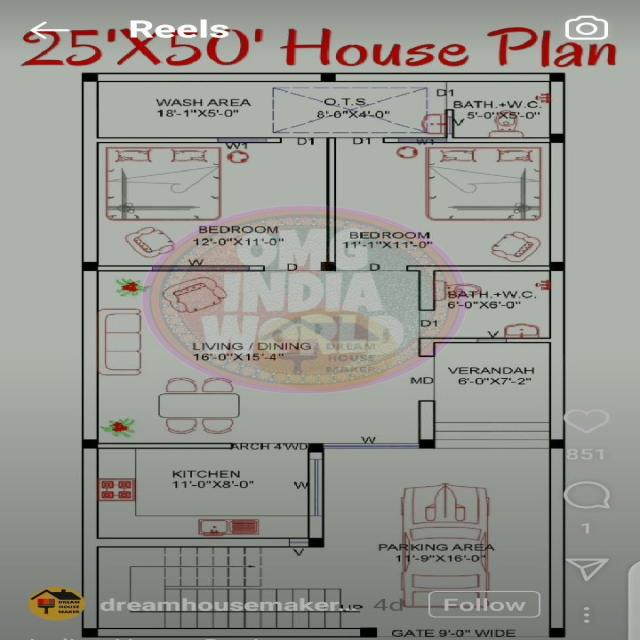Blueprint: (73, 67, 579, 640)
column: (542, 258, 574, 276), (541, 130, 574, 147), (314, 68, 344, 86), (313, 258, 342, 275), (542, 69, 572, 85), (74, 437, 104, 453), (78, 258, 105, 275), (302, 534, 330, 550), (354, 624, 383, 639), (543, 624, 570, 640), (304, 439, 330, 455), (75, 70, 101, 85), (544, 436, 570, 451), (77, 625, 103, 640), (414, 438, 443, 451)
wall: (80, 448, 101, 628), (80, 269, 100, 441), (82, 81, 98, 262), (550, 449, 566, 628), (550, 271, 566, 441), (97, 628, 361, 638), (98, 537, 308, 548), (335, 73, 551, 83), (550, 142, 568, 261), (99, 74, 321, 82), (326, 138, 337, 263), (382, 137, 550, 144), (98, 442, 234, 450), (550, 80, 567, 134), (408, 265, 552, 271), (418, 270, 436, 312), (419, 400, 438, 439), (96, 137, 219, 143), (419, 338, 551, 343), (98, 265, 154, 272), (308, 515, 324, 538), (418, 342, 436, 358), (307, 453, 324, 460)
